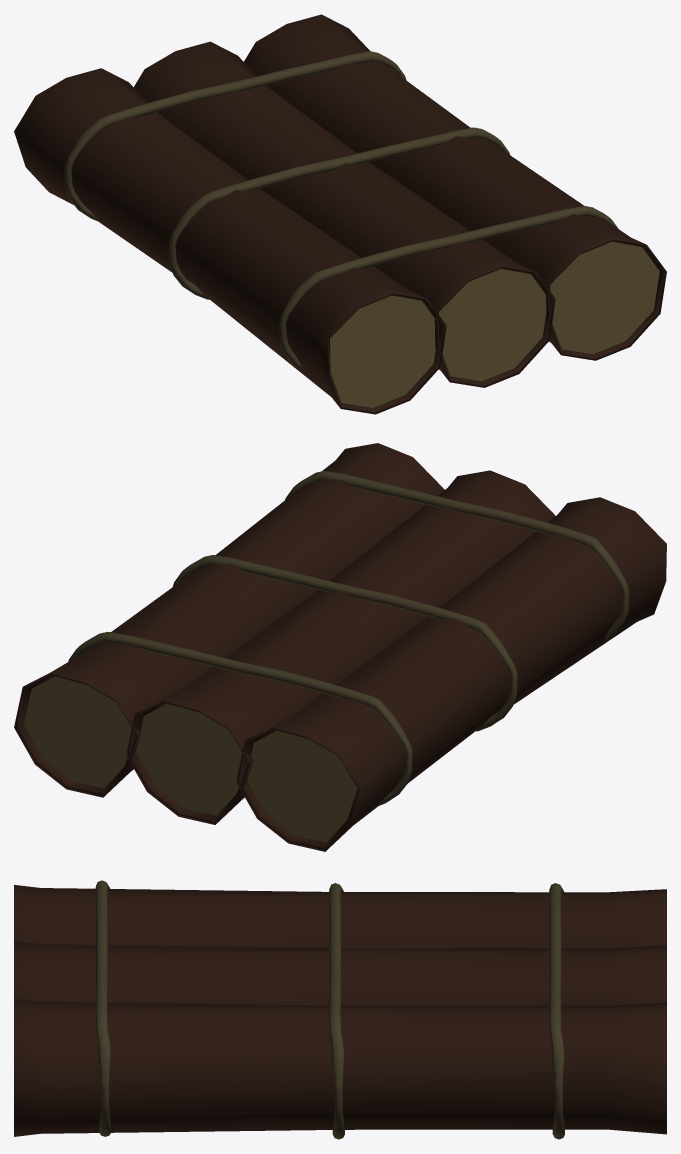
The model's file is Plataforma de troncos.fbx.
The picture shows the model from 3 angles, top to bottom: view 1: azimuth 30°, elevation 25°; view 2: azimuth 150°, elevation 25°; view 3: azimuth 270°, elevation 25°; orthographic projection. The views are drawn at different scales.
Visible parts, largest first — view 1: Plataforma; view 2: Plataforma; view 3: Plataforma.
Part boxes in pixels (<box>): Plataforma: <box>14,14,666,414</box>; Plataforma: <box>14,443,666,851</box>; Plataforma: <box>14,880,666,1139</box>.
Size of the model in its own units: 330 by 113 by 514.
